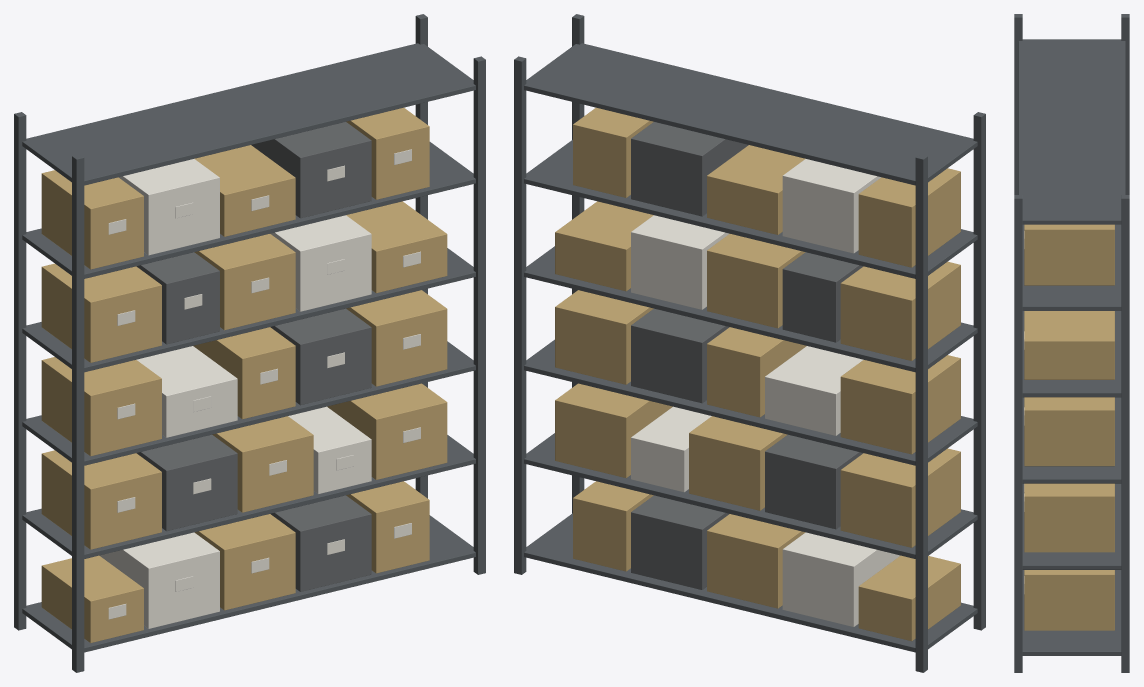
Rendered from PROP_Shelving_Archive.glb.
3 renders of one model, left to right at view 1: azimuth 30°, elevation 25°; view 2: azimuth 150°, elevation 25°; view 3: azimuth 270°, elevation 25°, orthographic. The views are drawn at different scales.
Visible parts, largest first — view 1: PROP_Shelving_Archive_Mesh; view 2: PROP_Shelving_Archive_Mesh; view 3: PROP_Shelving_Archive_Mesh.
Part boxes in pixels (x1,y1,x2,y2): PROP_Shelving_Archive_Mesh: (14, 14, 485, 672); PROP_Shelving_Archive_Mesh: (514, 14, 985, 672); PROP_Shelving_Archive_Mesh: (1014, 14, 1129, 672).
Size of what is drawn, in the model's own units: 1.83 by 2.2 by 0.485.
